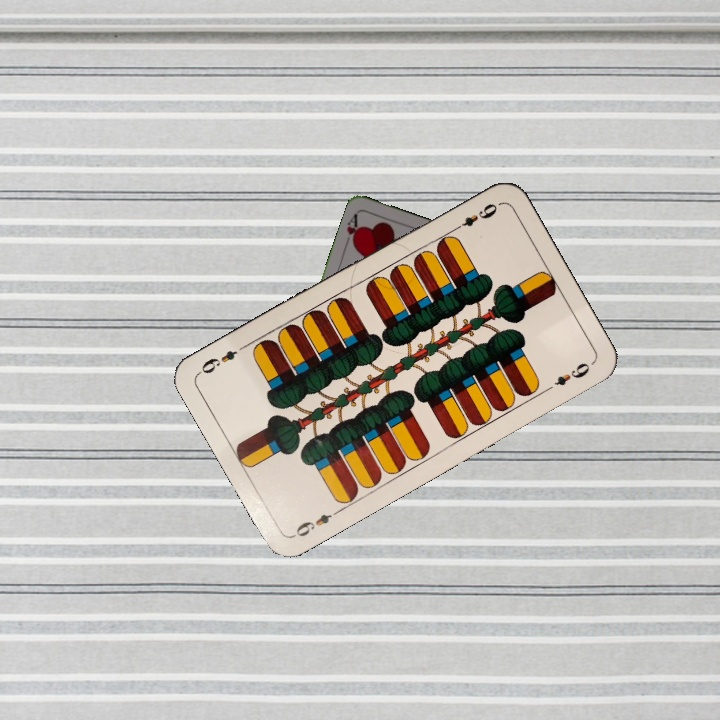E9: (289, 505, 344, 540), (448, 199, 502, 234)
HA: (341, 209, 363, 249)
